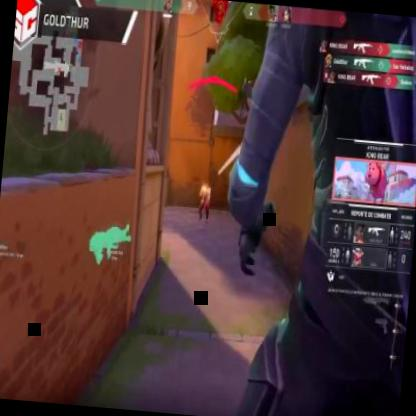enemy: (197, 180, 211, 223)
enemy_head: (203, 182, 209, 192)
